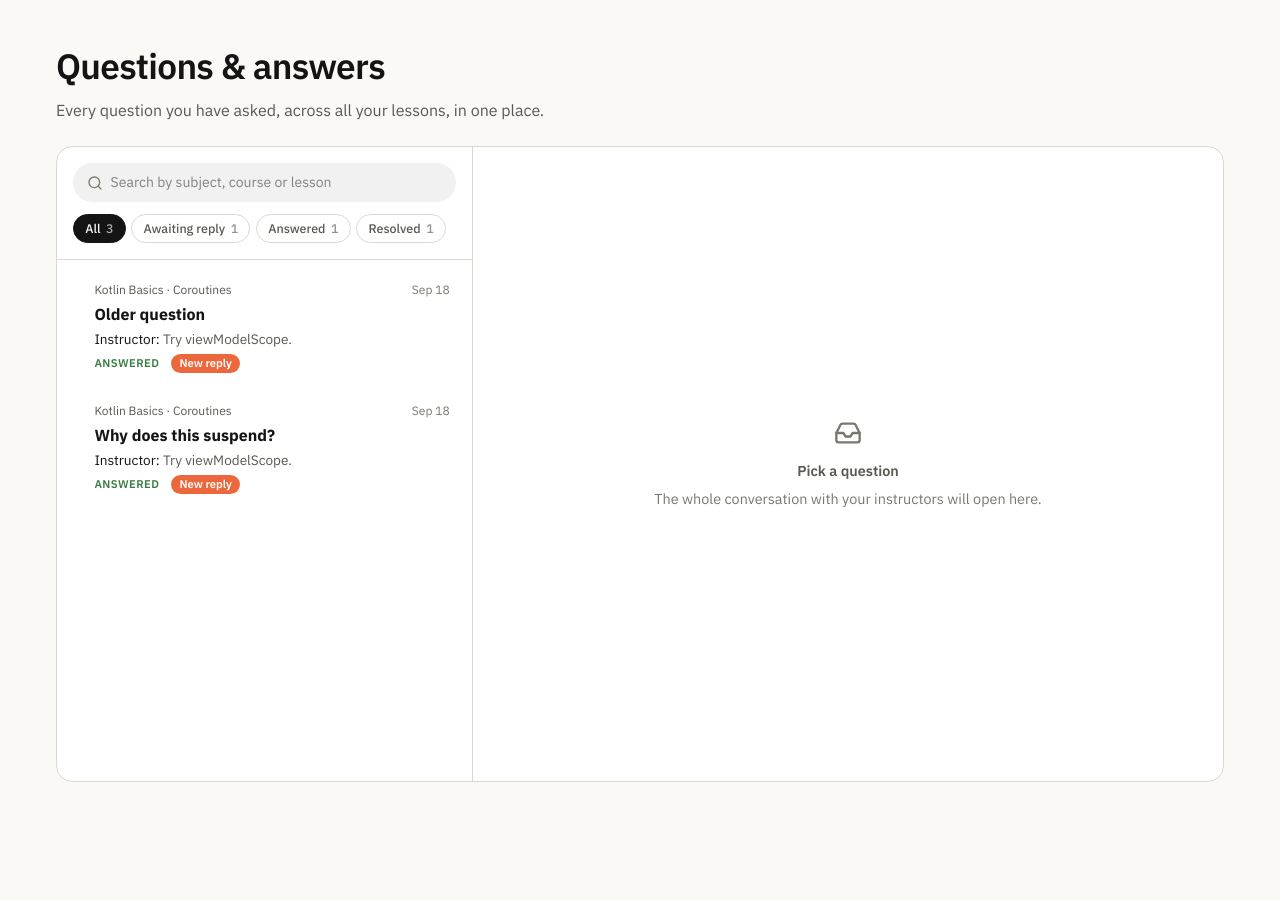
Scenario: QuestionsView › sends a reply and moves the conversation to the top of the list
The image size is (1280, 900).
Click the text "Why does this suspend?". click: (185,435)
box: [94, 425, 275, 445]
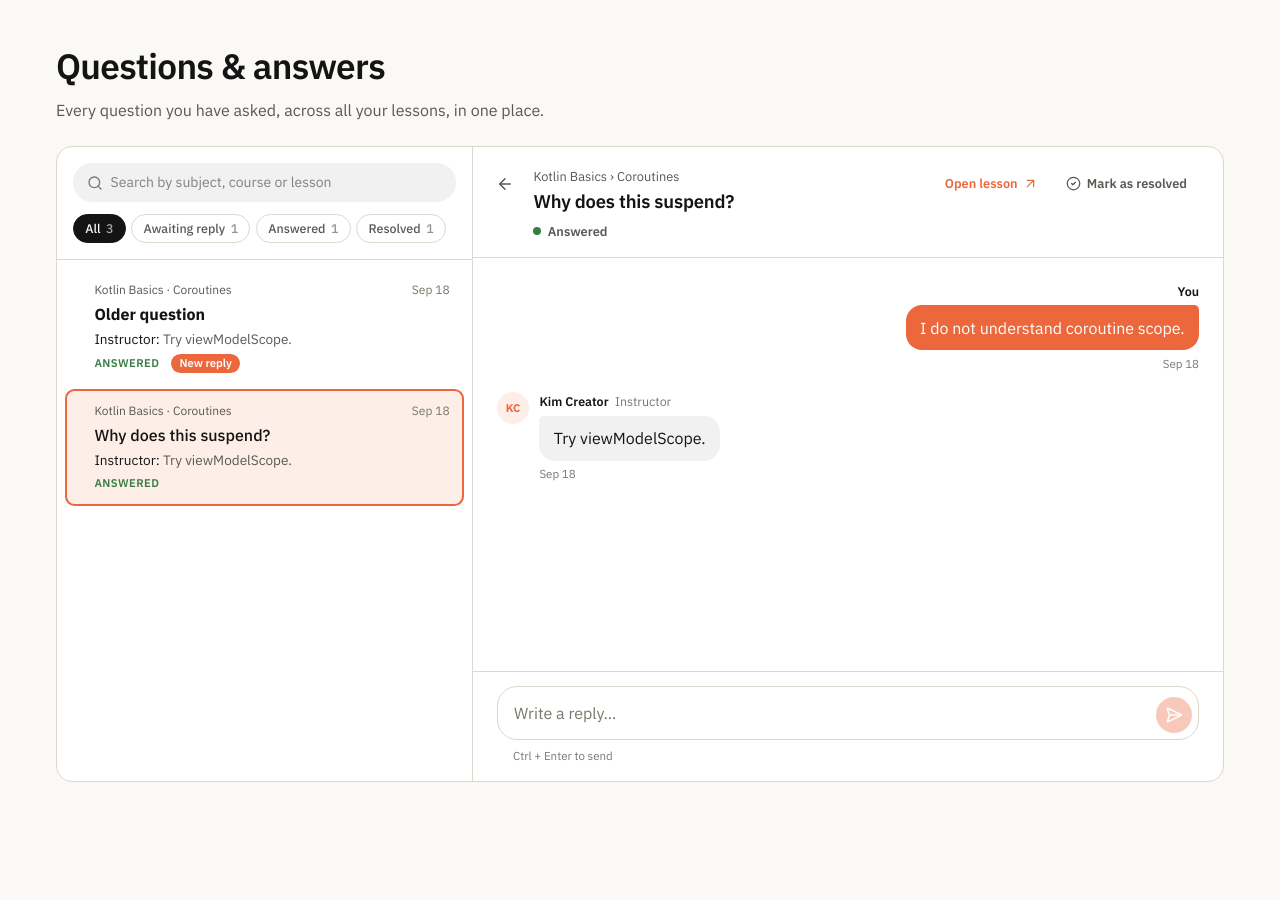
Type "Still stuck." into the text box named "Your reply". click: (831,713)
box: [514, 694, 1148, 733]
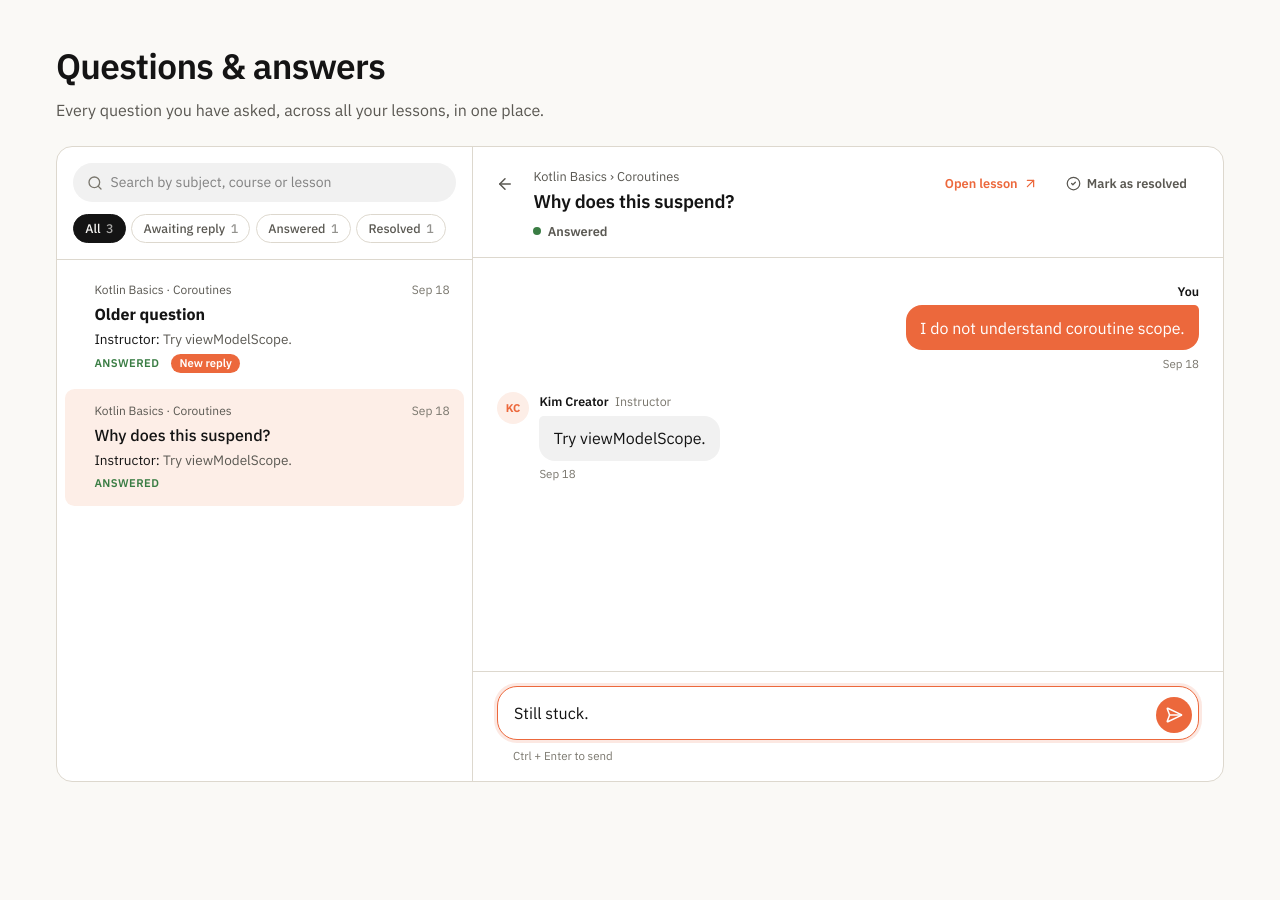
Click the button named "Send". click: (1174,715)
box: [1156, 697, 1192, 733]
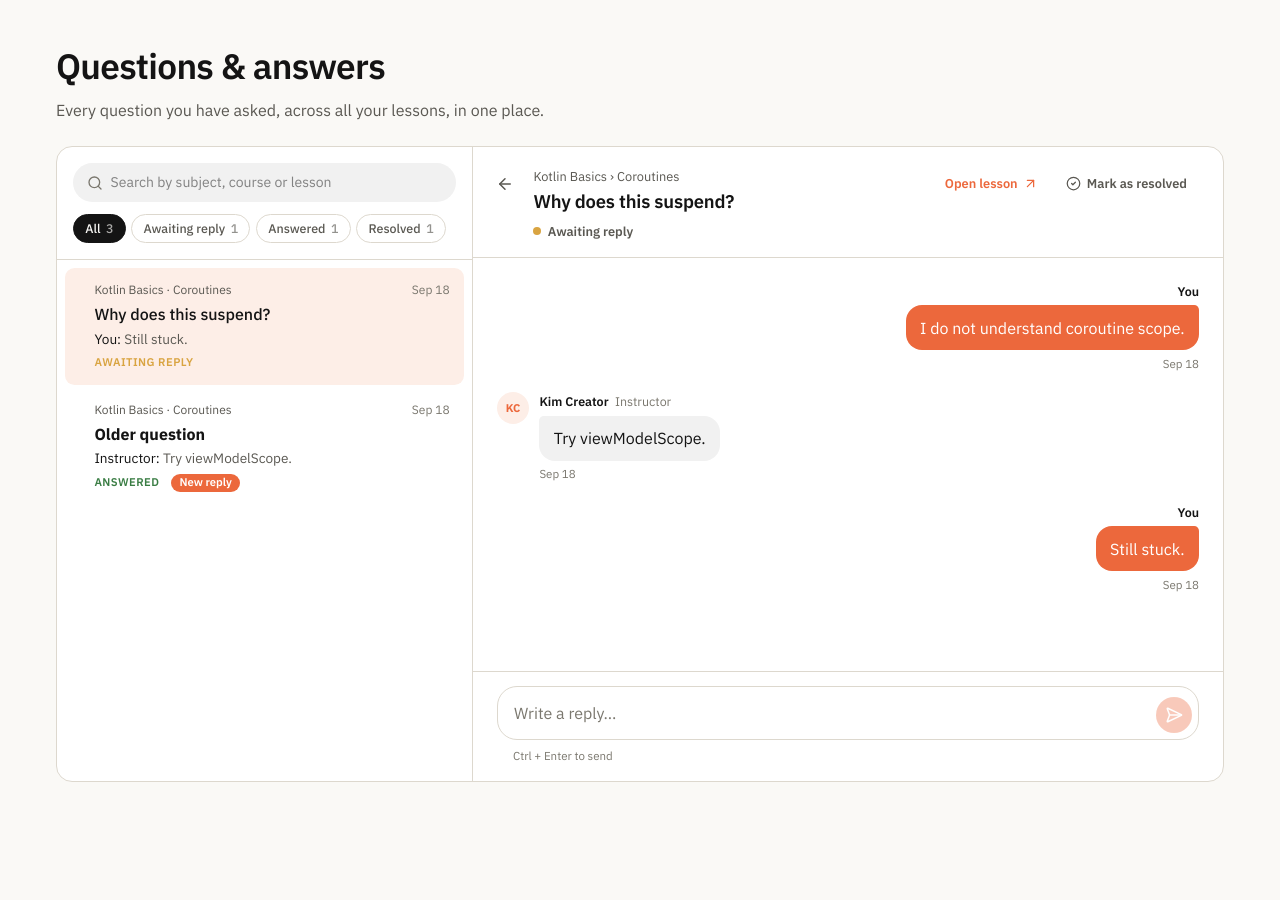
Check: the 7th button shows "Why does this suspend?", box [65, 268, 464, 385]
Check: the 7th button shows "You: Still stuck.", box [65, 268, 464, 385]
Check: the text box named "Your reply" is empty, box [514, 694, 1148, 733]
